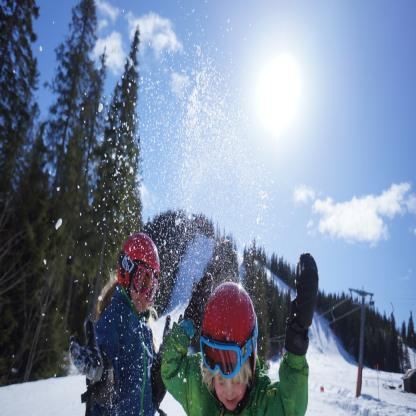Helmet: (200, 281, 258, 412), (119, 232, 160, 316)
